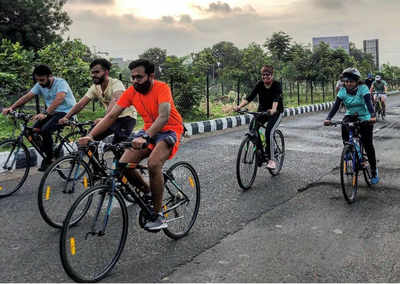commuter: (58, 58, 201, 281), (35, 58, 156, 230), (1, 64, 80, 197), (323, 67, 381, 206), (232, 64, 288, 191)
